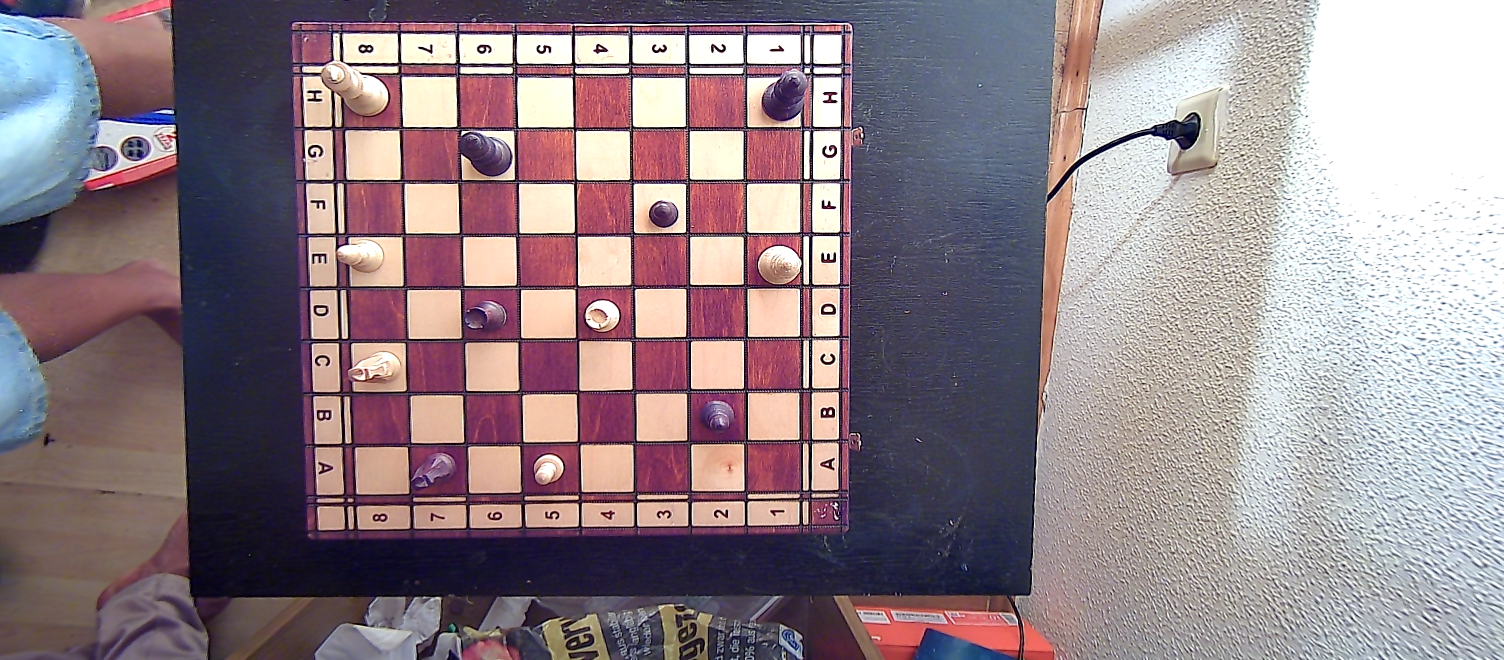black-bishop: (695, 396, 739, 438)
black-king: (458, 130, 514, 180)
black-knight: (409, 447, 460, 495)
black-pawn: (645, 197, 681, 230)
black-queen: (758, 69, 808, 123)
black-rook: (464, 295, 510, 339)
white-bishop: (337, 237, 387, 277)
white-king: (319, 57, 389, 119)
white-knight: (348, 349, 402, 389)
white-pawn: (531, 451, 565, 487)
white-queen: (755, 241, 803, 287)
white-rook: (581, 296, 622, 335)
